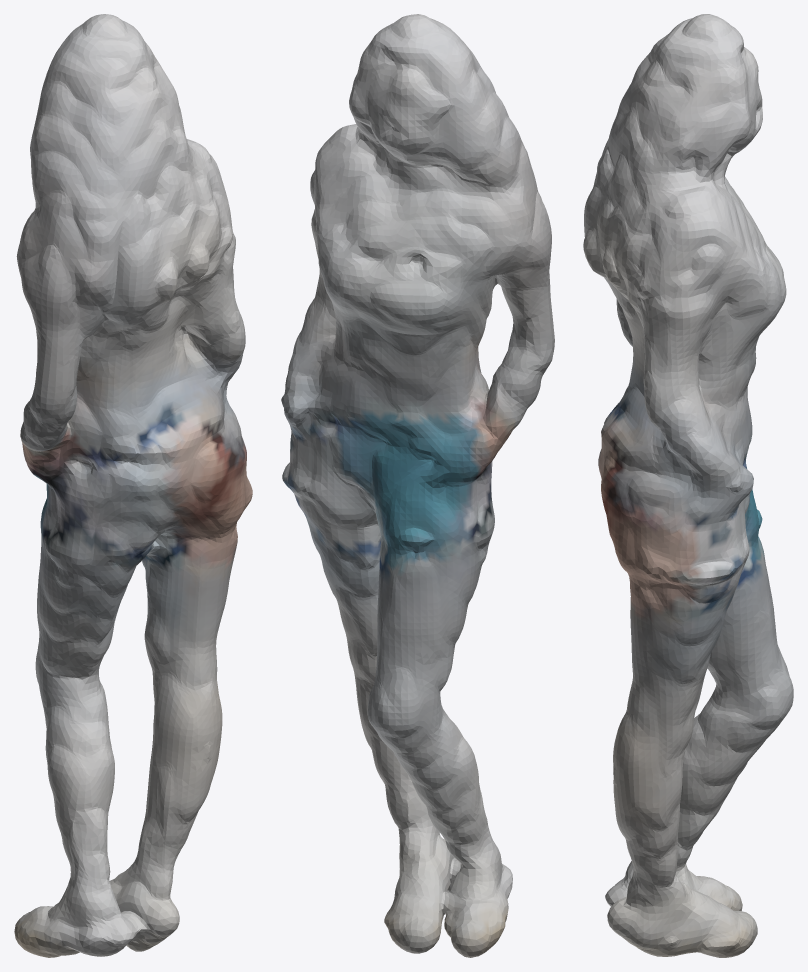
The model's file is person.glb.
3 views of the same model, side by side, from view 1: azimuth 30°, elevation 25°; view 2: azimuth 150°, elevation 25°; view 3: azimuth 270°, elevation 25° (orthographic). The views are drawn at different scales.
Visible parts, largest first — view 1: geometry_0; view 2: geometry_0; view 3: geometry_0.
Part boxes in pixels (x1,y1,x2,y2): geometry_0: (14,14,252,957); geometry_0: (281,14,554,957); geometry_0: (583,14,793,957).
Bounding box in the file's own units: 0.4676 × 1.75 × 0.3545.
